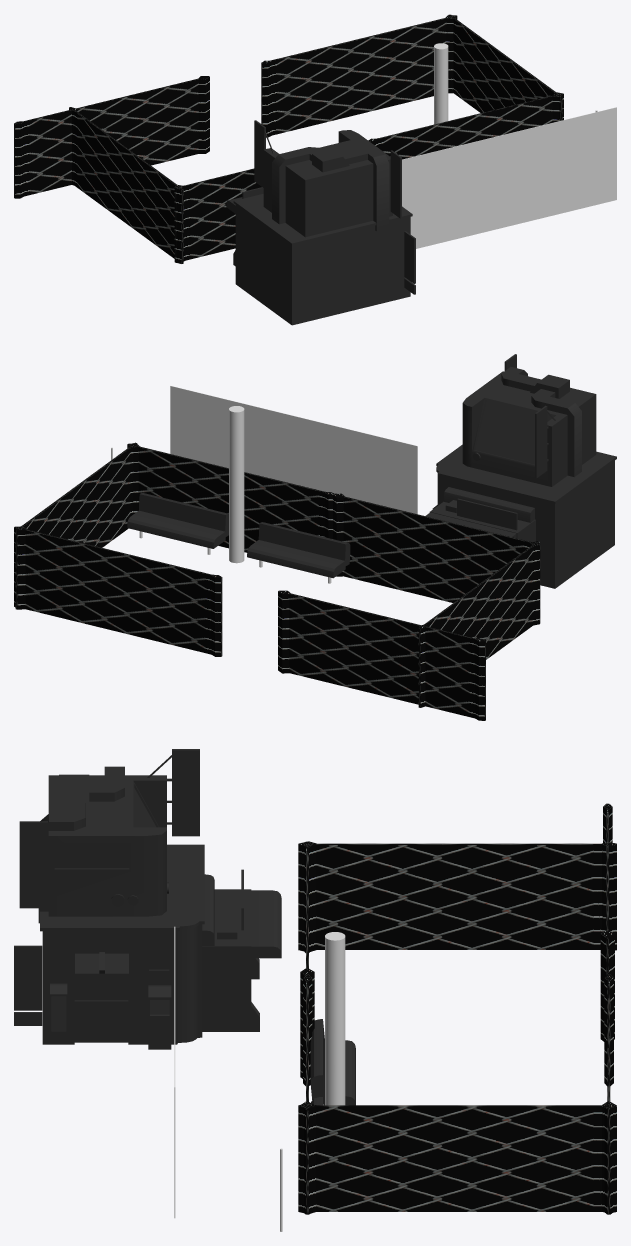
The model's file is testingimport.fbx.
3 renders of one model, top to bottom at view 1: azimuth 30°, elevation 25°; view 2: azimuth 150°, elevation 25°; view 3: azimuth 270°, elevation 25°, orthographic. The views are drawn at different scales.
Visible parts, largest first — view 1: Box001, Box035, Box036, Box030, Box025, Box034, Box002, Box033, Box031, Box032, Box024, Box023 (+5 smaller); view 2: Box035, Box036, Box032, Box001, Box025, Box031, Box002, Box030, Box034, Box033, Cylinder011, Box028 (+11 smaller); view 3: Box034, Box033, Box001, Box002, Box003, Cylinder011, Box015, Box010, Box035, Box004, Box017, Box031 (+12 smaller).
Part boxes in pixels (x1=…): Box001: x1=233, y1=194, x2=412, y2=325; Box035: x1=261, y1=15, x2=457, y2=137; Box036: x1=14, y1=76, x2=209, y2=198; Box030: x1=402, y1=130, x2=523, y2=248; Box025: x1=520, y1=107, x2=616, y2=222; Box034: x1=69, y1=107, x2=183, y2=263; Box002: x1=263, y1=130, x2=392, y2=237; Box033: x1=448, y1=14, x2=562, y2=120; Box031: x1=369, y1=93, x2=563, y2=159; Box032: x1=175, y1=140, x2=370, y2=262; Box024: x1=339, y1=146, x2=389, y2=231; Box023: x1=272, y1=147, x2=323, y2=224; Box035: x1=14, y1=526, x2=222, y2=656; Box036: x1=278, y1=590, x2=485, y2=720; Box032: x1=333, y1=493, x2=540, y2=623; Box001: x1=436, y1=444, x2=616, y2=588; Box025: x1=170, y1=386, x2=317, y2=489; Box031: x1=127, y1=443, x2=335, y2=552; Box002: x1=462, y1=371, x2=596, y2=486; Box030: x1=269, y1=410, x2=417, y2=514; Box034: x1=418, y1=541, x2=539, y2=707; Box033: x1=15, y1=442, x2=137, y2=609; Cylinder011: x1=229, y1=406, x2=244, y2=563; Box028: x1=247, y1=540, x2=345, y2=578; Box034: x1=298, y1=841, x2=616, y2=951; Box033: x1=298, y1=1103, x2=616, y2=1213; Box001: x1=40, y1=844, x2=204, y2=1044; Box002: x1=48, y1=775, x2=166, y2=916; Box003: x1=202, y1=889, x2=259, y2=1031; Cylinder011: x1=325, y1=932, x2=345, y2=1105; Box015: x1=19, y1=821, x2=47, y2=908; Box010: x1=172, y1=749, x2=199, y2=836; Box035: x1=602, y1=974, x2=615, y2=1214; Box004: x1=251, y1=890, x2=281, y2=958; Box017: x1=14, y1=945, x2=42, y2=1010; Box031: x1=301, y1=974, x2=314, y2=1214.
Size of the model in its own units: 386 by 126 by 305.
